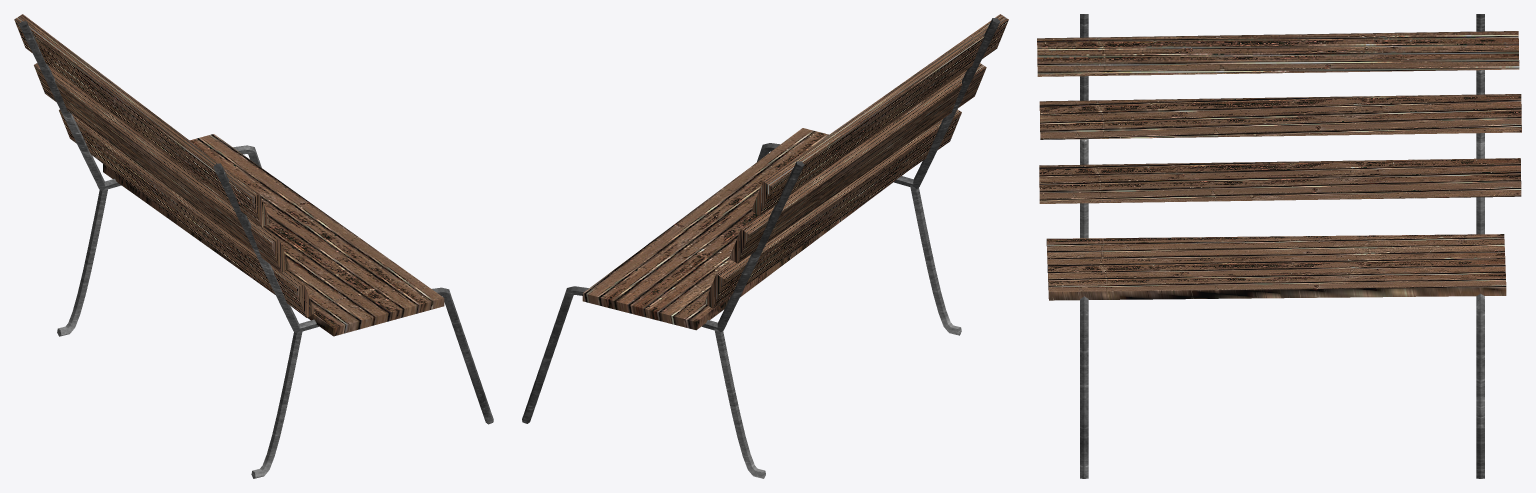
The model's file is Bench02.FBX.
3 renders of one model, left to right at view 1: azimuth 30°, elevation 25°; view 2: azimuth 150°, elevation 25°; view 3: azimuth 270°, elevation 25°, orthographic.
Visible parts, largest first — view 1: Box003; view 2: Box003; view 3: Box003.
Boxes of the visible parts, x1,y1,x2,y2 form: Box003: (14,14,493,478); Box003: (522,14,1008,478); Box003: (1037,14,1521,478).
Size of the model in its own units: 31.47 by 35.01 by 46.4.
